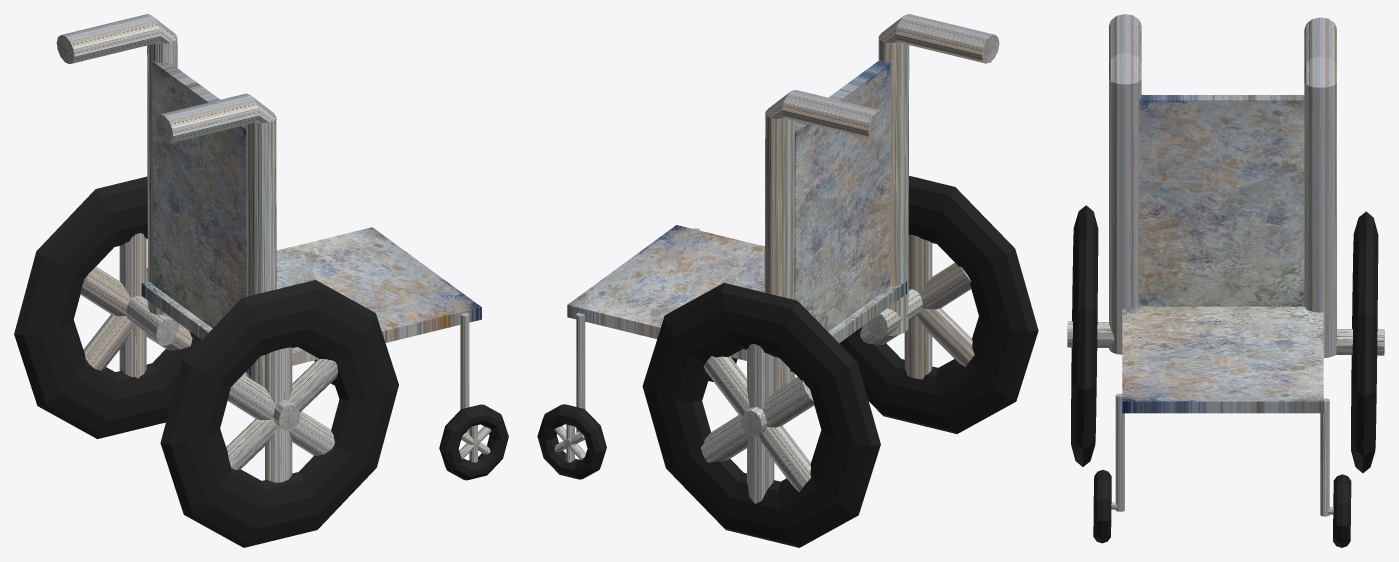
File: SEDIA A ROTELLE.fbx
3 renders of one model, left to right at view 1: azimuth 30°, elevation 25°; view 2: azimuth 150°, elevation 25°; view 3: azimuth 270°, elevation 25°, orthographic. The views are drawn at different scales.
Parts seen in each view (by area): view 1: sedia_a_rotelle_obj_1; view 2: sedia_a_rotelle_obj_1; view 3: sedia_a_rotelle_obj_1.
Part boxes in pixels (x1,y1,x2,y2): sedia_a_rotelle_obj_1: (14,14,508,547); sedia_a_rotelle_obj_1: (537,14,1038,547); sedia_a_rotelle_obj_1: (1067,14,1384,547).
Size of the model in its own units: 6.04 by 6.93 by 5.01.
Materials: 2 (1 with a texture image).
